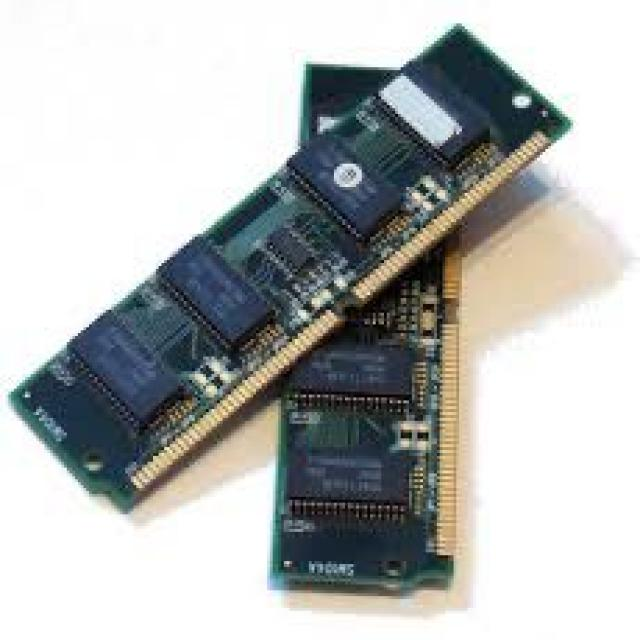Ram: (42, 57, 570, 612)
